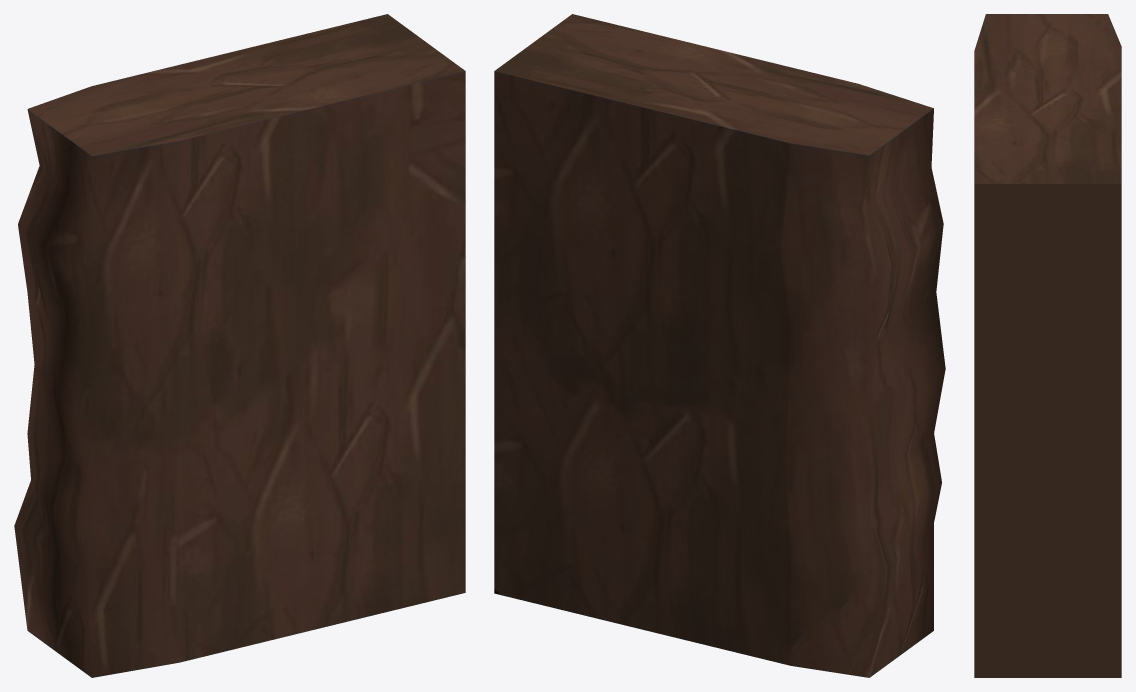
File: Muurtje.fbx
3 renders of one model, left to right at view 1: azimuth 30°, elevation 25°; view 2: azimuth 150°, elevation 25°; view 3: azimuth 270°, elevation 25°, orthographic. The views are drawn at different scales.
Visible parts, largest first — view 1: pCube3; view 2: pCube3; view 3: pCube3.
Part boxes in pixels (bbox=[...]): pCube3: bbox=[14, 14, 465, 677]; pCube3: bbox=[494, 14, 945, 677]; pCube3: bbox=[974, 14, 1121, 677].
Bounding box in the file's own units: 24.93 × 32.44 × 8.78.
1 material, 1 textured.
